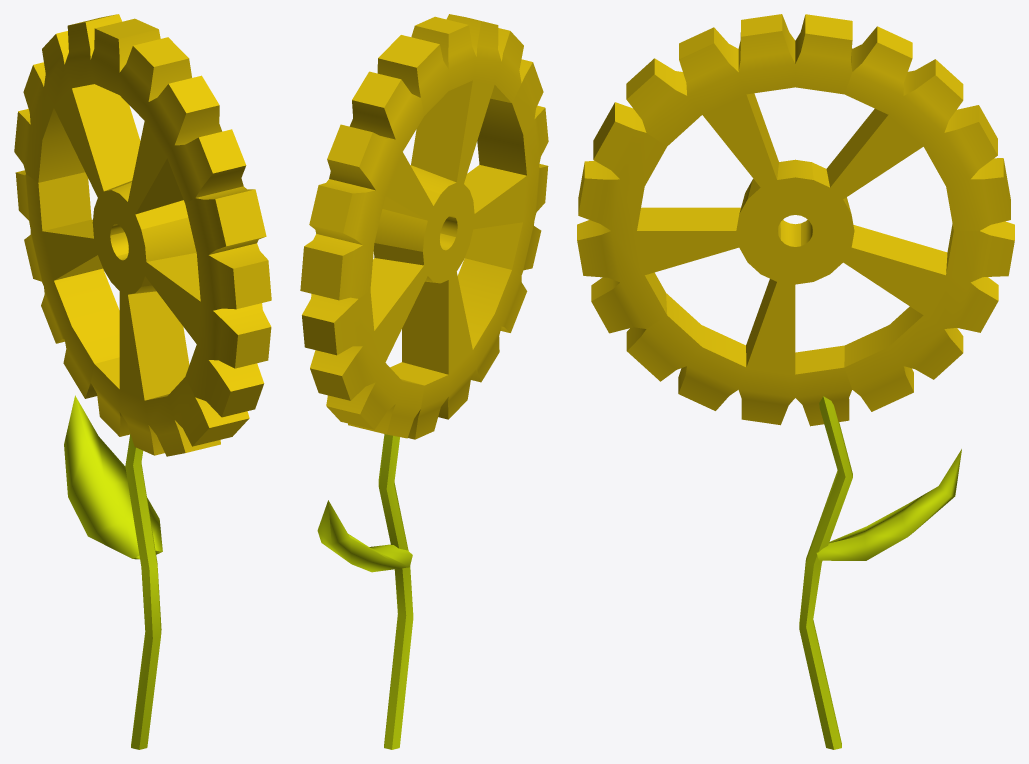
File: flower3.fbx
3 views of the same model, side by side, from view 1: azimuth 30°, elevation 25°; view 2: azimuth 150°, elevation 25°; view 3: azimuth 270°, elevation 25° (orthographic). The views are drawn at different scales.
Visible parts, largest first — view 1: pCylinder224, pCylinder223, pCylinder222, pCylinder225, pCylinder221, pPyramid1, pCylinder316; view 2: pCylinder222, pCylinder223, pCylinder221, pCylinder225, pCylinder224, pCylinder316, pPyramid1; view 3: pCylinder223, pCylinder222, pCylinder224, pCylinder221, pCylinder225, pCylinder316, pPyramid1.
Boxes of the visible parts, box(x1,y1,x2,y2) form: pCylinder224: box(127, 186, 271, 417); pCylinder223: box(90, 18, 246, 237); pCylinder222: box(14, 14, 140, 235); pCylinder225: box(90, 253, 249, 456); pCylinder221: box(15, 170, 128, 398); pPyramid1: box(64, 395, 162, 559); pCylinder316: box(125, 434, 161, 749); pCylinder222: box(300, 71, 445, 300); pCylinder223: box(377, 14, 523, 218); pCylinder221: box(302, 239, 445, 438); pCylinder225: box(390, 233, 527, 439); pCylinder224: box(440, 59, 548, 275); pCylinder316: box(378, 434, 413, 749); pPyramid1: box(317, 500, 412, 572); pCylinder223: box(626, 14, 852, 221); pCylinder222: box(801, 26, 1010, 230); pCylinder224: box(577, 102, 780, 333); pCylinder221: box(801, 220, 1014, 411); pCylinder225: box(626, 220, 852, 426); pCylinder316: box(799, 396, 852, 749); pPyramid1: box(816, 449, 961, 560).
Bounding box in the file's own units: 0.4701 × 4.29 × 2.38.
